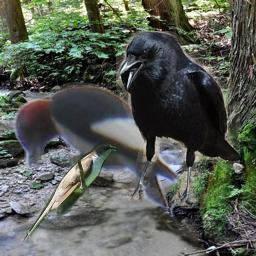Crow: (116, 31, 240, 206)
Cuckoo: (23, 143, 116, 242)
Woodpecker: (8, 81, 185, 213)
